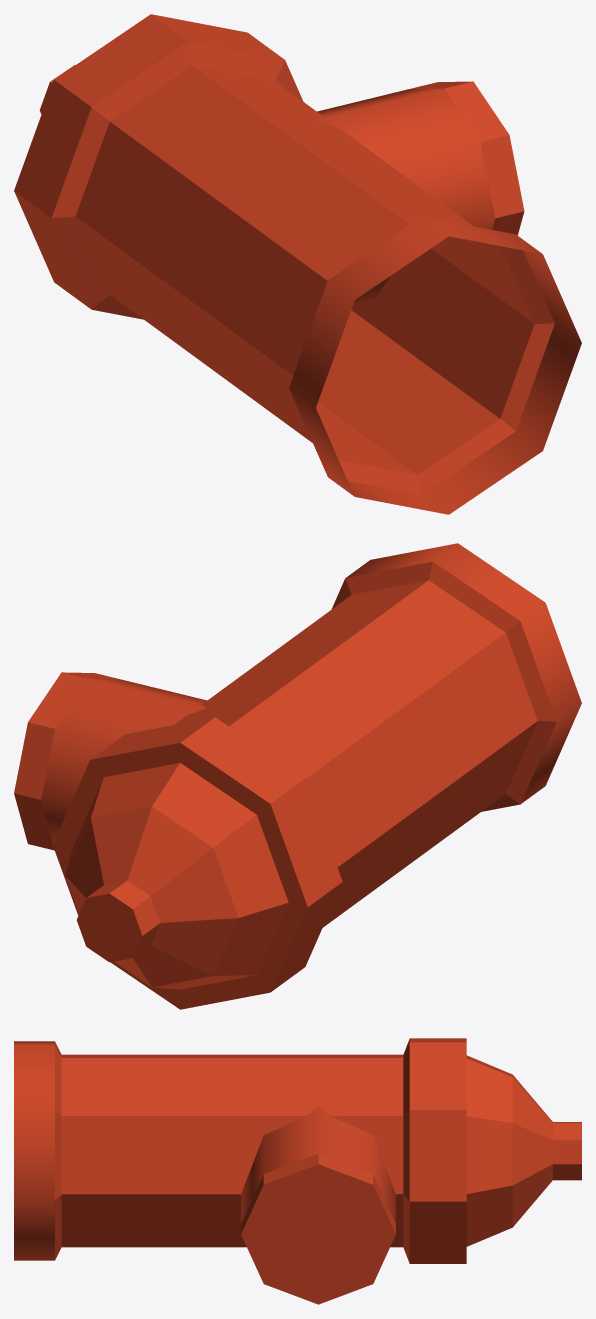
The model's file is XiaoFang1_Mo.fbx.
3 renders of one model, top to bottom at view 1: azimuth 30°, elevation 25°; view 2: azimuth 150°, elevation 25°; view 3: azimuth 270°, elevation 25°, orthographic. The views are drawn at different scales.
Visible parts, largest first — view 1: 01_firecock_0; view 2: 01_firecock_0; view 3: 01_firecock_0.
Boxes of the visible parts, <box> form: 01_firecock_0: <box>14,14,581,514</box>; 01_firecock_0: <box>14,543,581,1009</box>; 01_firecock_0: <box>14,1038,581,1304</box>.
Size of the model in its own units: 58.99 by 44.62 by 106.
1 material, 1 textured.
